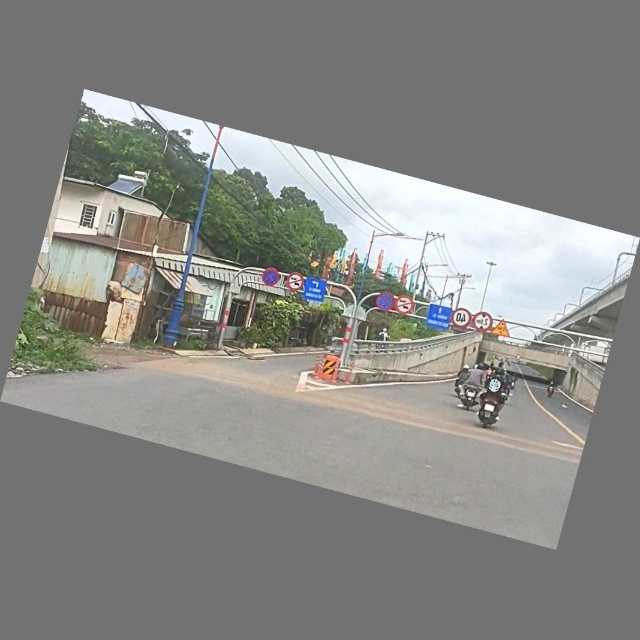P.107: (392, 293, 417, 319), (283, 271, 306, 295)
P.117*: (470, 310, 495, 336)
P.127*40: (449, 307, 473, 332)
P.130: (373, 290, 396, 314), (259, 266, 281, 289)
W.239b*: (491, 317, 514, 339)
